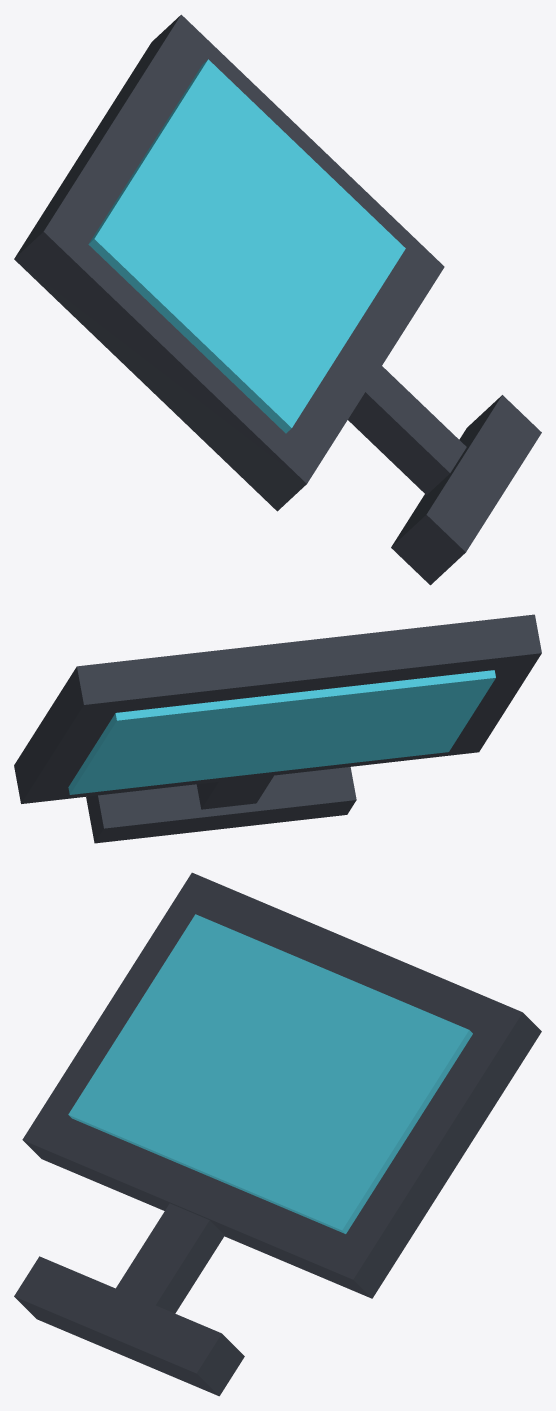
File: computers.obj
3 renders of one model, top to bottom at view 1: azimuth 30°, elevation 25°; view 2: azimuth 150°, elevation 25°; view 3: azimuth 270°, elevation 25°, orthographic. The views are drawn at different scales.
Bounding box in the file's own units: 1.31 × 0.8713 × 1.31.
